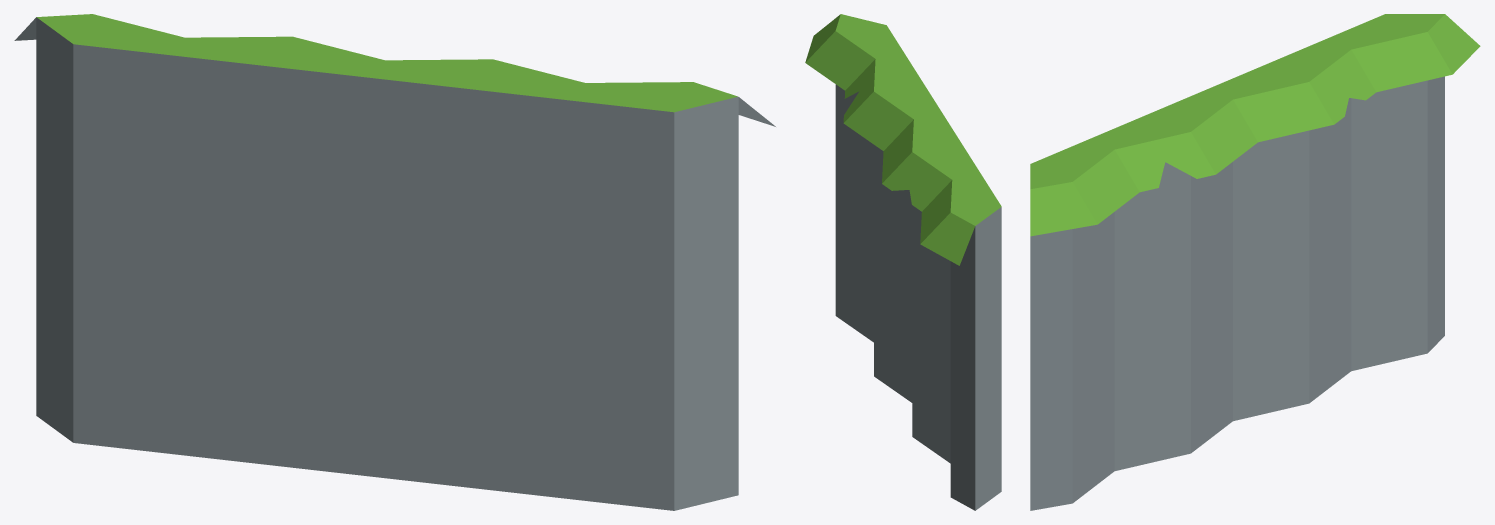
The model's file is cliff_topDiagonal_stone.glb.
The picture shows the model from 3 angles, left to right: view 1: azimuth 30°, elevation 25°; view 2: azimuth 150°, elevation 25°; view 3: azimuth 270°, elevation 25°; orthographic projection. The views are drawn at different scales.
Parts seen in each view (by area): view 1: cliff_topDiagonal_stone; view 2: cliff_topDiagonal_stone; view 3: cliff_topDiagonal_stone.
Part boxes in pixels (<box>): cliff_topDiagonal_stone: <box>14,14,775,510</box>; cliff_topDiagonal_stone: <box>805,14,1001,510</box>; cliff_topDiagonal_stone: <box>1030,14,1480,510</box>.
Bounding box in the file's own units: 1.27 × 1 × 1.27.
